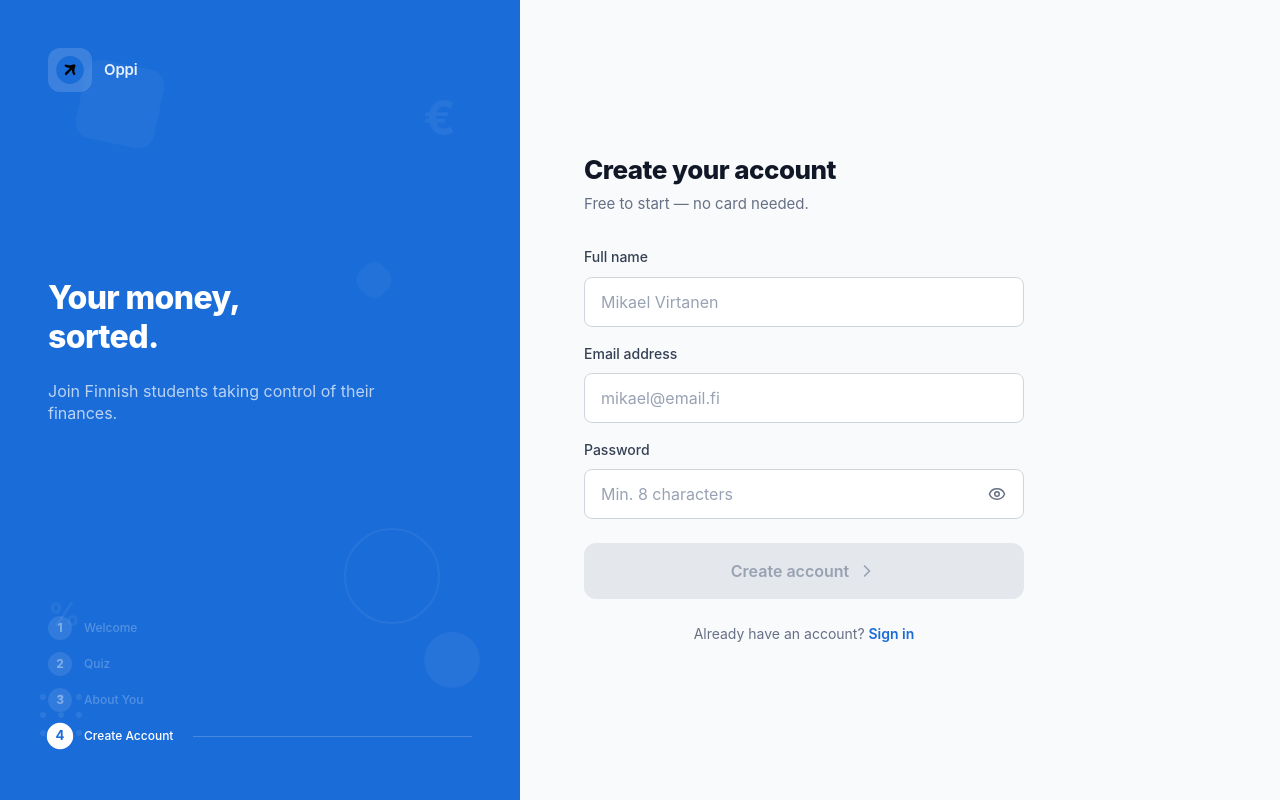
Test case: SignupPage — form reset › clears the name error as soon as the user edits the name field
In the field labelled "Full name": {"x": 804, "y": 302} [585,278,1023,326], type "A"
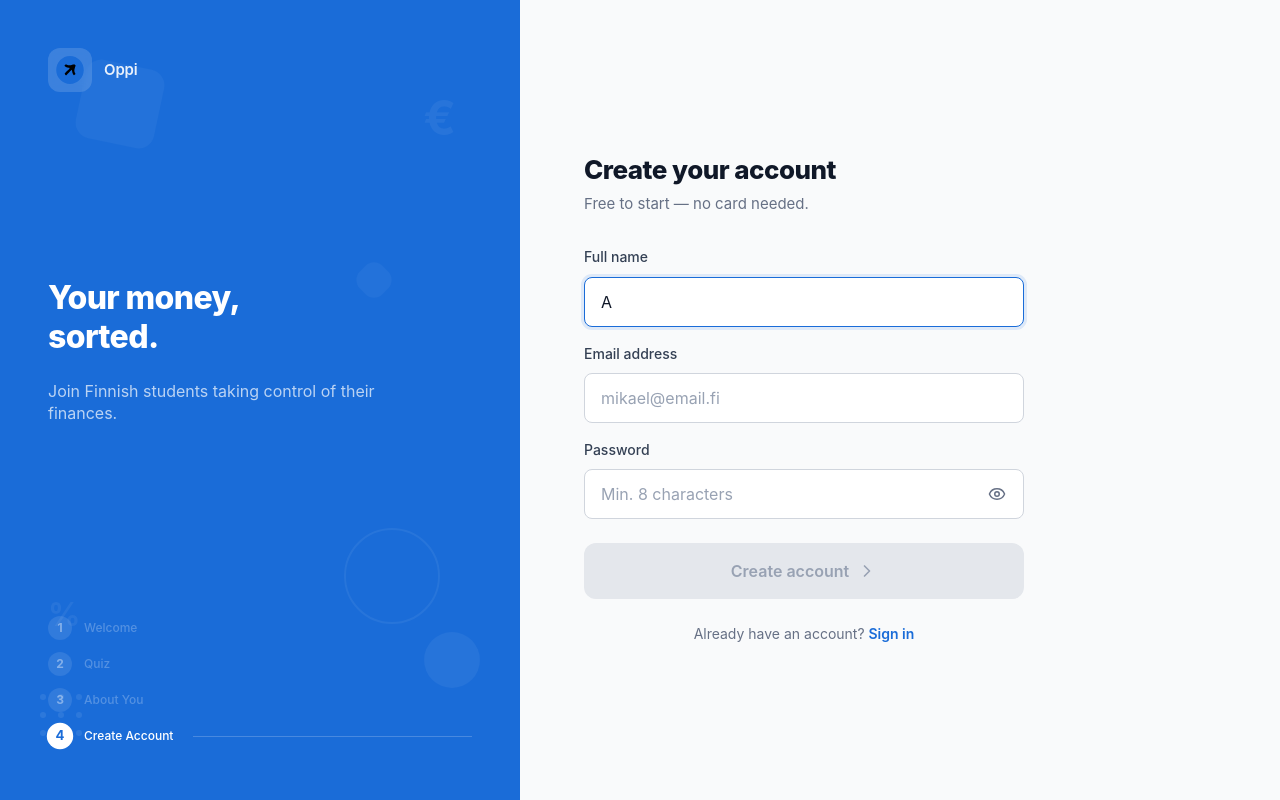
In the field labelled "Email address": {"x": 804, "y": 398} [585,374,1023,422], type "user@example.fi"
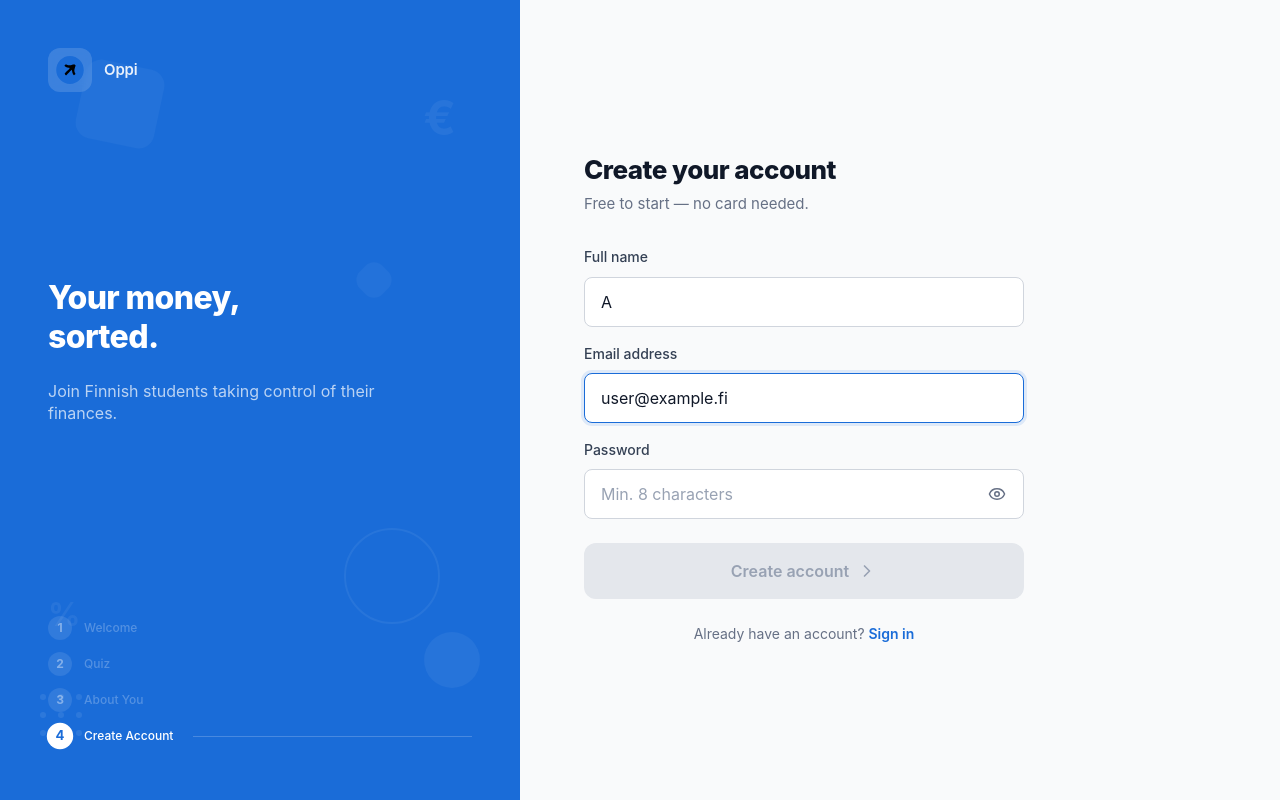
In the password field labelled "Password": {"x": 780, "y": 494} [585,470,975,518], type "short"
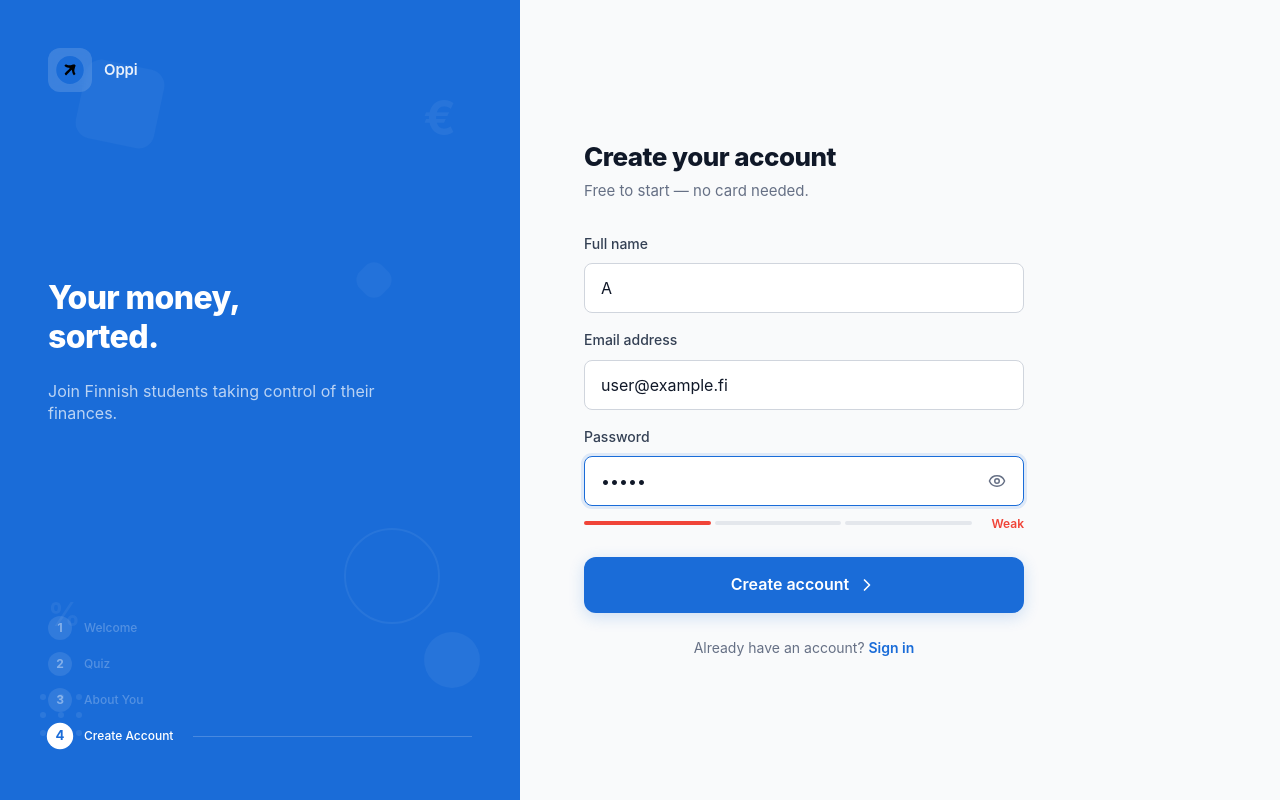
Click the button "Create account": {"x": 804, "y": 585} [584,557,1024,613]
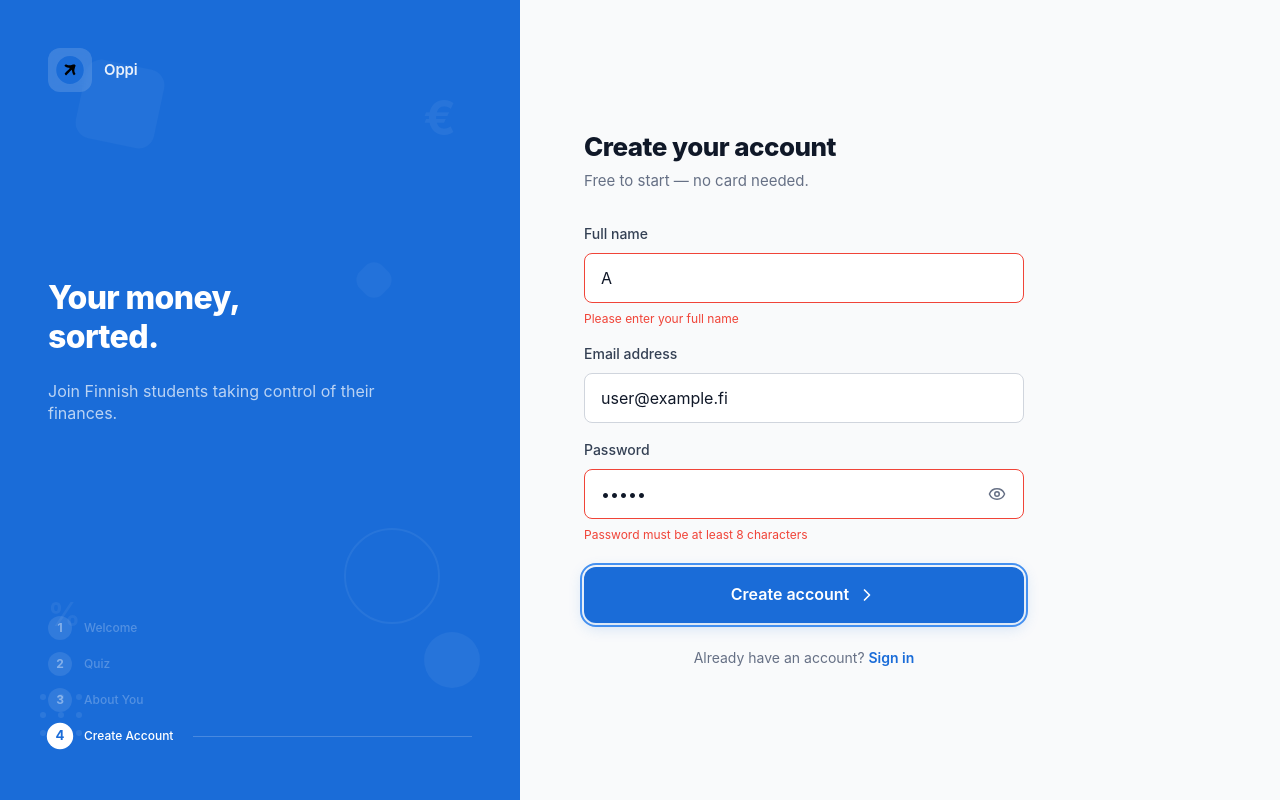
Check: the text "Please enter your full name" is shown, box [584,311,739,326]
In the field labelled "Full name": {"x": 804, "y": 278} [585,254,1023,302], type "x"
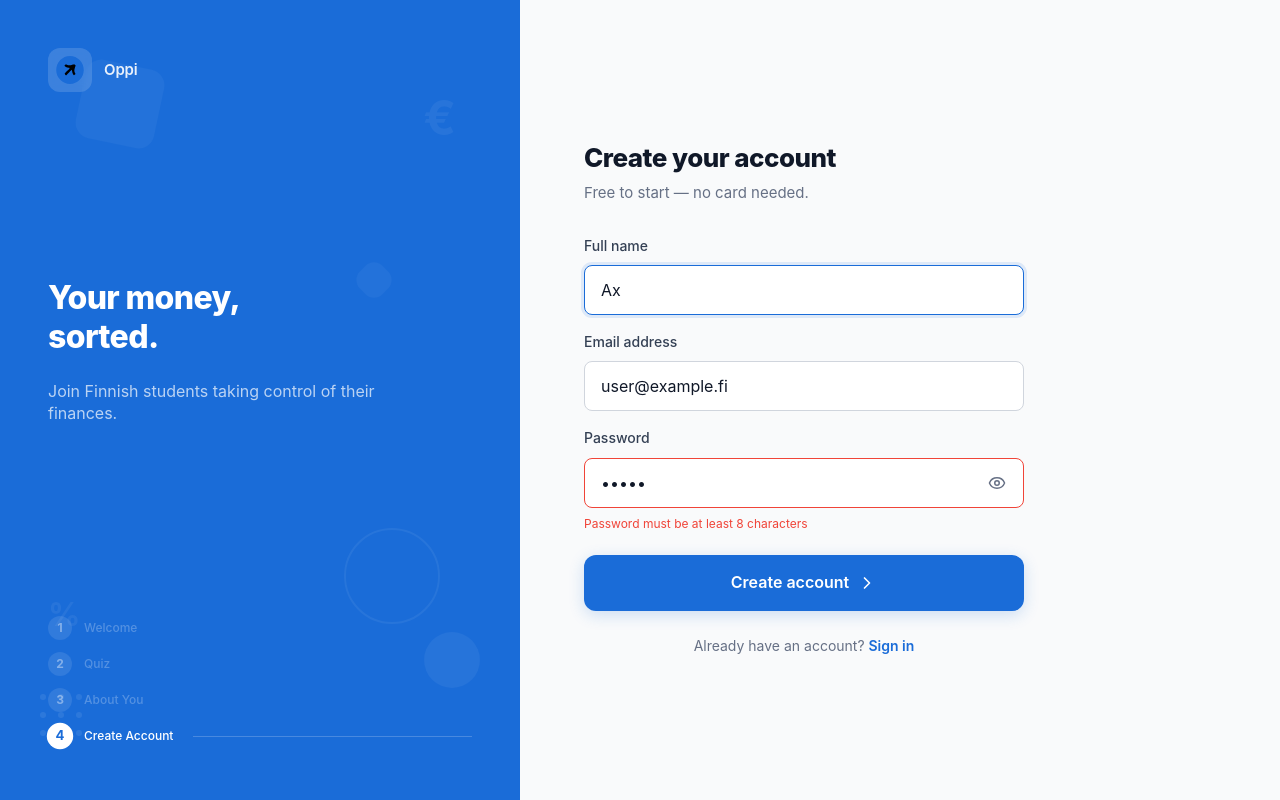
Check: the text "Please enter your full name" is gone
